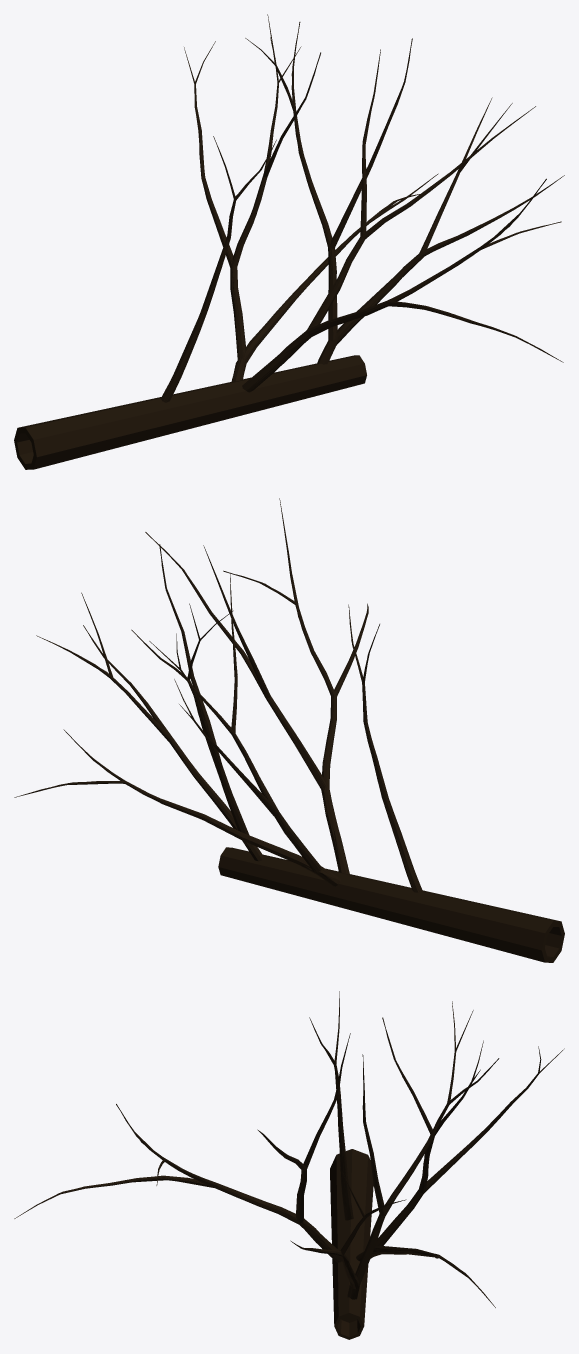
The model's file is dryBranchesL.fbx.
The picture shows the model from 3 angles, top to bottom: view 1: azimuth 30°, elevation 25°; view 2: azimuth 150°, elevation 25°; view 3: azimuth 270°, elevation 25°; orthographic projection. The views are drawn at different scales.
Visible parts, largest first — view 1: dryBranchesL, dryBranchesL1, dryBranchesL2; view 2: dryBranchesL, dryBranchesL1, dryBranchesL2; view 3: dryBranchesL, dryBranchesL1, dryBranchesL2.
Part boxes in pixels (x1=…): dryBranchesL: x1=14, y1=14, x2=564, y2=469; dryBranchesL1: x1=15, y1=19, x2=561, y2=469; dryBranchesL2: x1=160, y1=22, x2=561, y2=402; dryBranchesL: x1=14, y1=498, x2=564, y2=962; dryBranchesL1: x1=25, y1=500, x2=564, y2=962; dryBranchesL2: x1=19, y1=522, x2=420, y2=891; dryBranchesL: x1=14, y1=998, x2=564, y2=1339; dryBranchesL1: x1=18, y1=991, x2=560, y2=1338; dryBranchesL2: x1=27, y1=995, x2=540, y2=1324.
Size of the model in its own units: 198 by 125 by 193.
